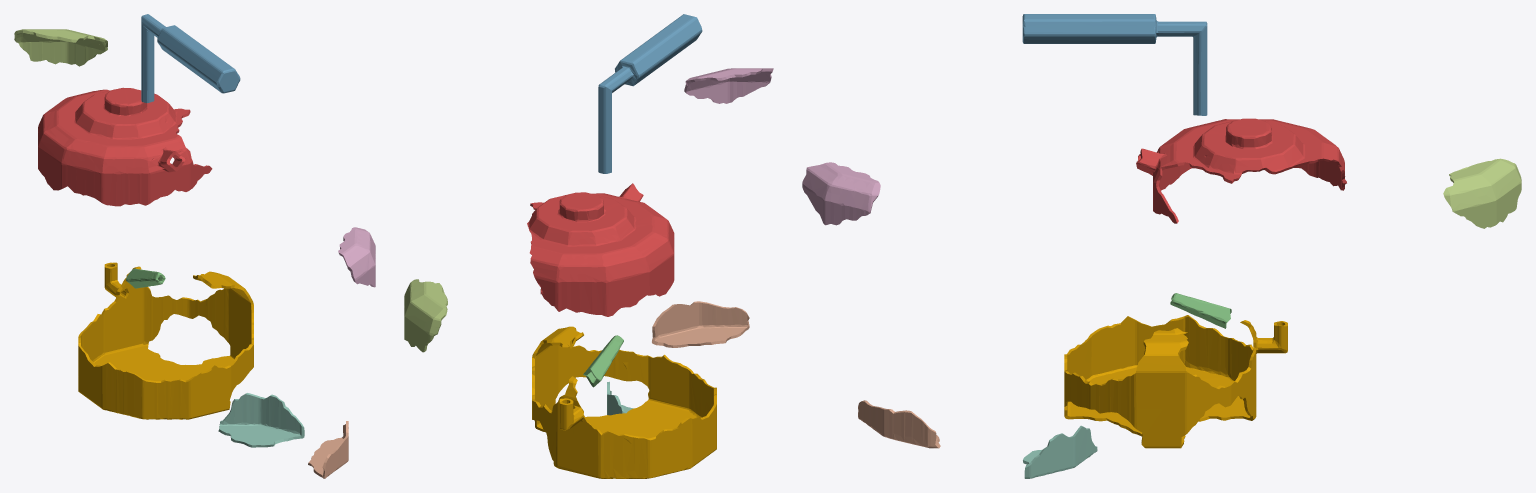
Rendered from mode_17_8pcs_transformed.glb.
3 views of the same model, side by side, from view 1: azimuth 30°, elevation 25°; view 2: azimuth 150°, elevation 25°; view 3: azimuth 270°, elevation 25° (orthographic). The views are drawn at different scales.
Parts seen in each view (by area): view 1: piece_0.obj, piece_1.obj, piece_2.obj, piece_4.obj, piece_5.obj, piece_6.obj, piece_7.obj, piece_3.obj; view 2: piece_0.obj, piece_1.obj, piece_2.obj, piece_7.obj, piece_5.obj, piece_6.obj, piece_3.obj; view 3: piece_0.obj, piece_1.obj, piece_2.obj, piece_5.obj, piece_6.obj, piece_4.obj, piece_7.obj, piece_3.obj.
Boxes of the visible parts, box(x1,y1,x2,y2) form: piece_0.obj: box(78, 262, 253, 419); piece_1.obj: box(38, 87, 212, 206); piece_2.obj: box(141, 14, 240, 103); piece_4.obj: box(218, 393, 304, 447); piece_5.obj: box(14, 29, 107, 66); piece_6.obj: box(338, 227, 375, 287); piece_7.obj: box(308, 421, 348, 478); piece_3.obj: box(126, 268, 165, 288); piece_0.obj: box(532, 326, 716, 478); piece_1.obj: box(527, 183, 674, 316); piece_2.obj: box(598, 14, 702, 173); piece_7.obj: box(652, 301, 749, 347); piece_5.obj: box(404, 279, 447, 352); piece_6.obj: box(684, 68, 773, 103); piece_3.obj: box(583, 335, 623, 387); piece_0.obj: box(1064, 315, 1287, 448); piece_1.obj: box(1136, 118, 1346, 223); piece_2.obj: box(1022, 14, 1207, 115); piece_5.obj: box(1443, 158, 1521, 228); piece_6.obj: box(802, 162, 880, 225); piece_4.obj: box(1023, 425, 1097, 478); piece_7.obj: box(858, 400, 940, 448); piece_3.obj: box(1170, 293, 1231, 328).
Size of the model in its own units: 0.6508 by 1.58 by 2.44.
